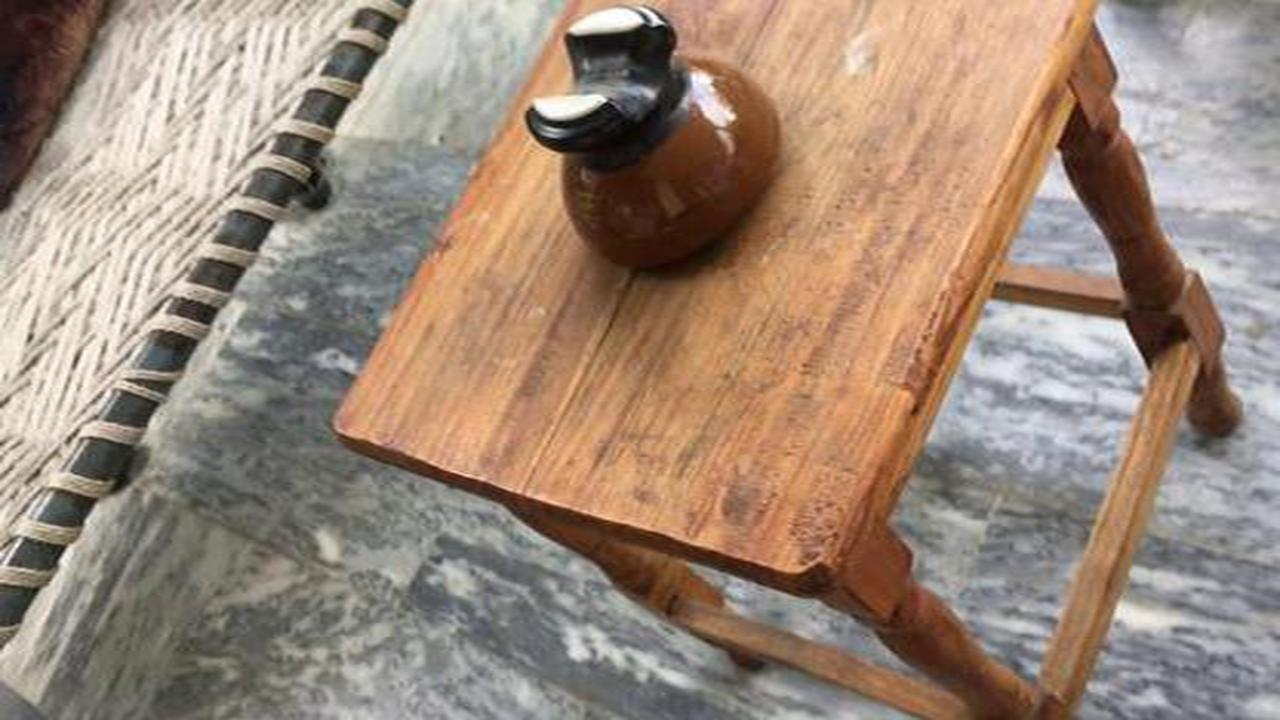insulator_pin: (493, 7, 797, 281)
